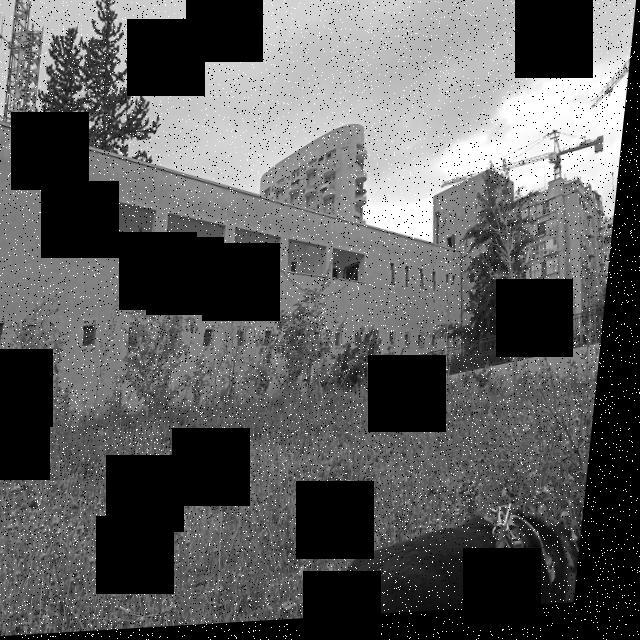Window: (87, 322, 105, 352), (0, 320, 17, 348), (173, 326, 190, 351), (349, 264, 368, 286), (211, 329, 226, 350), (184, 247, 208, 260), (134, 328, 148, 350), (394, 266, 404, 292), (242, 331, 256, 349), (270, 258, 284, 276), (423, 273, 433, 296), (270, 334, 282, 352), (411, 268, 418, 294), (362, 338, 372, 354), (437, 276, 444, 298), (394, 338, 404, 353), (341, 336, 350, 352), (320, 336, 328, 354), (249, 255, 258, 270), (440, 339, 448, 354), (296, 264, 304, 278), (220, 251, 228, 265), (338, 273, 347, 285), (83, 236, 96, 244), (425, 340, 432, 353), (412, 340, 419, 353), (344, 150, 354, 159), (458, 280, 464, 292), (448, 220, 454, 232), (468, 212, 474, 223), (451, 280, 456, 290), (330, 180, 336, 188), (330, 157, 336, 165), (322, 160, 328, 168), (330, 204, 336, 212), (481, 206, 484, 218), (316, 200, 321, 207), (335, 156, 340, 163), (336, 202, 341, 208), (301, 174, 305, 181), (282, 196, 286, 203), (461, 217, 464, 226), (322, 183, 325, 192), (317, 176, 321, 182), (325, 171, 328, 179), (325, 182, 328, 190), (337, 178, 340, 186), (307, 170, 311, 176), (276, 188, 279, 196), (270, 194, 274, 200), (296, 200, 300, 206), (312, 202, 316, 208), (324, 195, 328, 201), (360, 188, 364, 194), (305, 170, 308, 177), (307, 181, 310, 188), (614, 258, 616, 268), (300, 198, 304, 203), (297, 178, 300, 184), (292, 190, 295, 196), (361, 212, 364, 218), (324, 207, 327, 213), (321, 208, 324, 214), (322, 173, 325, 178), (292, 179, 295, 184), (361, 166, 364, 171), (308, 203, 310, 210), (322, 196, 324, 203), (290, 180, 292, 186), (274, 193, 276, 199), (305, 182, 307, 188), (308, 192, 310, 198), (305, 194, 307, 200), (306, 204, 308, 210), (313, 180, 316, 184), (290, 192, 292, 196), (292, 202, 294, 206), (290, 202, 292, 206), (364, 215, 366, 218)
